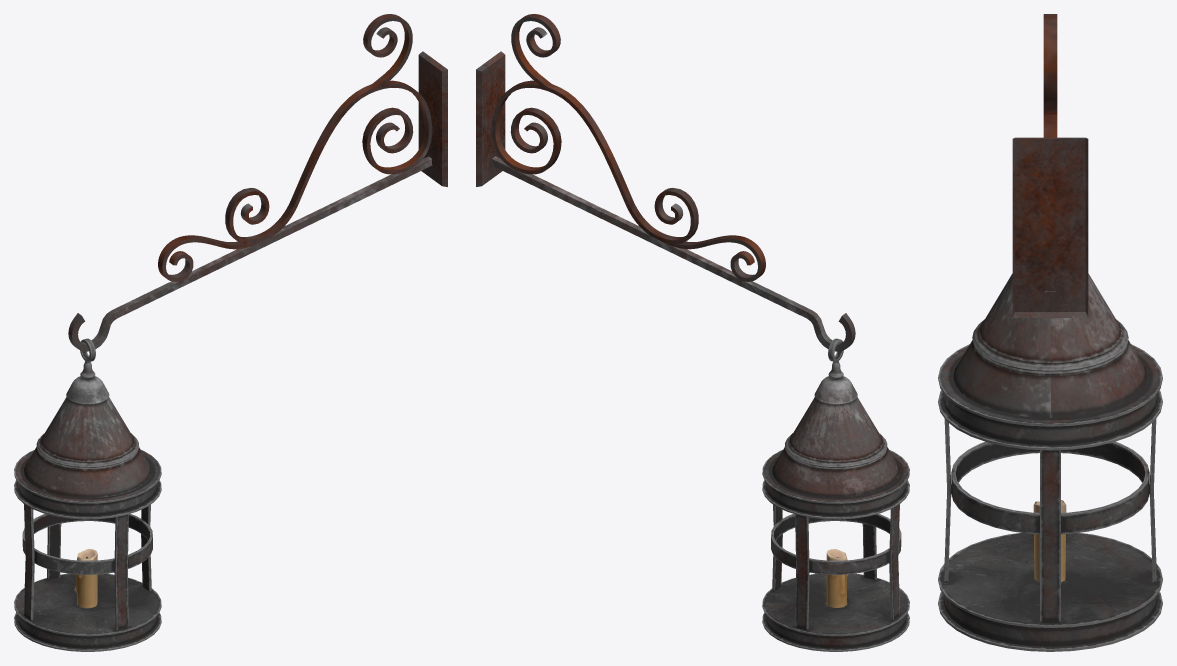
The model's file is SM_LampC.fbx.
3 renders of one model, left to right at view 1: azimuth 30°, elevation 25°; view 2: azimuth 150°, elevation 25°; view 3: azimuth 270°, elevation 25°, orthographic. The views are drawn at different scales.
Visible parts, largest first — view 1: SM_LampC_LOD0; view 2: SM_LampC_LOD0; view 3: SM_LampC_LOD0.
Boxes of the visible parts, x1=… form: SM_LampC_LOD0: x1=14, y1=14, x2=447, y2=651; SM_LampC_LOD0: x1=476, y1=14, x2=909, y2=651; SM_LampC_LOD0: x1=938, y1=14, x2=1162, y2=651.
Bounding box in the file's own units: 57.62 × 17.92 × 71.14.
2 materials, 2 textured.
